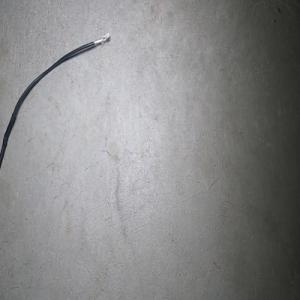Wire: (0, 31, 110, 169)
